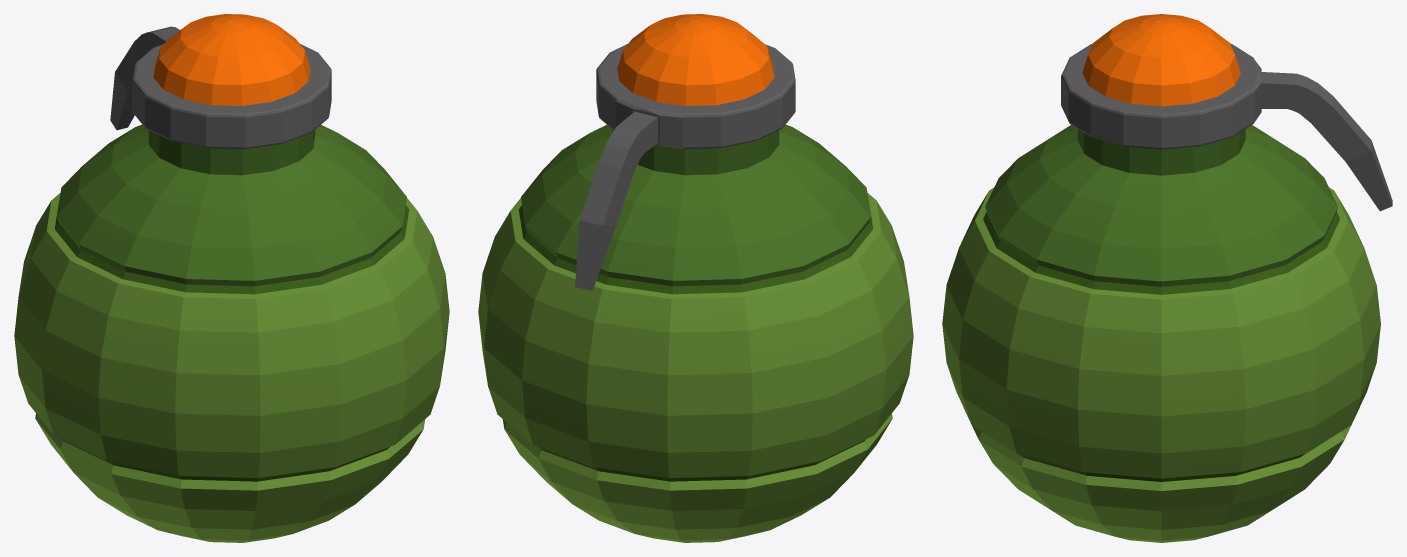
The model's file is bullet of grenade.fbx.
3 renders of one model, left to right at view 1: azimuth 30°, elevation 25°; view 2: azimuth 150°, elevation 25°; view 3: azimuth 270°, elevation 25°, orthographic.
Parts seen in each view (by area): view 1: Sphere.001; view 2: Sphere.001; view 3: Sphere.001.
Part boxes in pixels (x1=…): Sphere.001: x1=14, y1=14, x2=449, y2=542; Sphere.001: x1=478, y1=14, x2=913, y2=542; Sphere.001: x1=942, y1=14, x2=1392, y2=542.
Bounding box in the file's own units: 91.04 × 115 × 93.47.
Materials: 1 (1 with a texture image).
